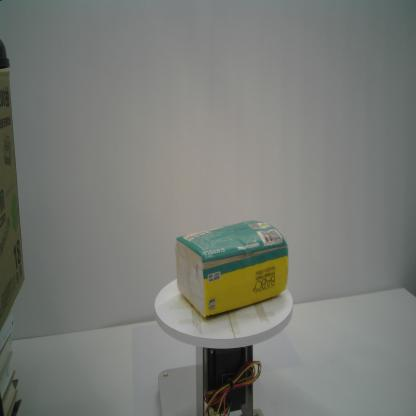Tissue: (176, 220, 288, 317)
